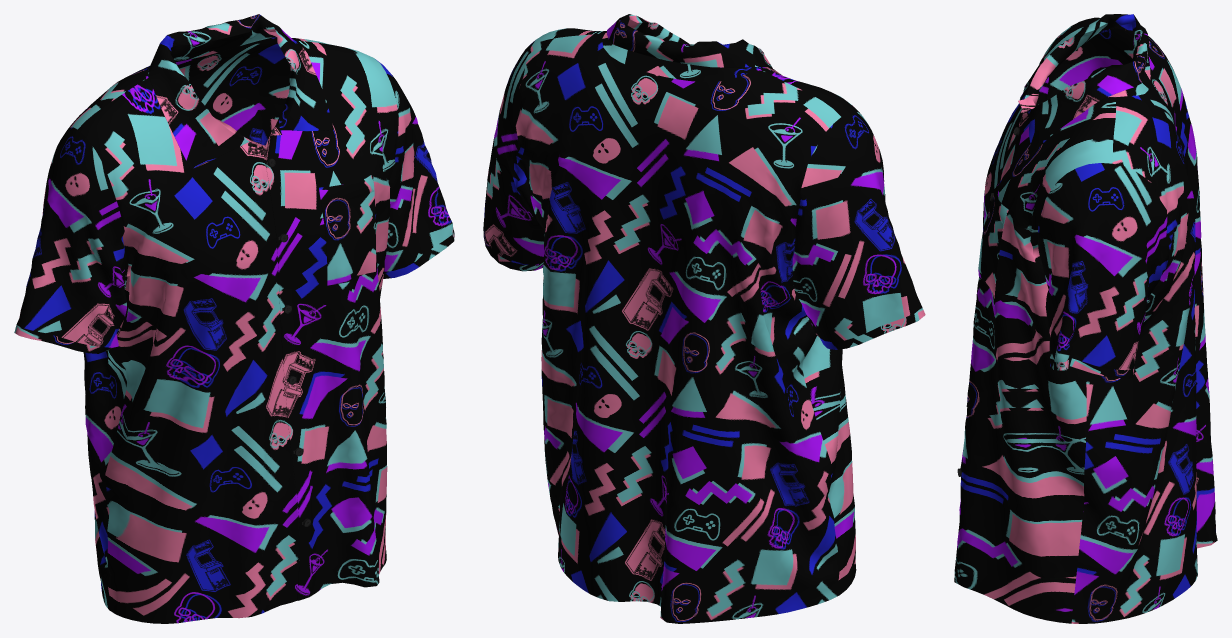
Rendered from arcade-night.glb.
3 renders of one model, left to right at view 1: azimuth 30°, elevation 25°; view 2: azimuth 150°, elevation 25°; view 3: azimuth 270°, elevation 25°, orthographic. The views are drawn at different scales.
Visible parts, largest first — view 1: Object_6, Object_13, Object_3, Object_5, Object_12, Object_4, Object_11, Object_8, Object_7; view 2: Object_3, Object_13, Object_6, Object_12, Object_5, Object_8; view 3: Object_3, Object_6, Object_12, Object_5, Object_13, Object_11, Object_7, Object_4.
Boxes of the visible parts, x1,y1,x2,y2 form: Object_6: (78, 40, 398, 623); Object_13: (16, 127, 128, 347); Object_3: (67, 37, 331, 609); Object_5: (144, 14, 333, 169); Object_12: (375, 59, 452, 271); Object_4: (245, 124, 311, 600); Object_11: (319, 175, 376, 285); Object_8: (14, 325, 111, 353); Object_7: (383, 227, 454, 278); Object_3: (515, 33, 840, 623); Object_13: (792, 111, 921, 342); Object_6: (532, 28, 861, 594); Object_12: (483, 40, 544, 264); Object_5: (602, 14, 782, 81); Object_8: (820, 307, 925, 349); Object_3: (1071, 30, 1217, 623); Object_6: (954, 17, 1116, 623); Object_12: (1037, 163, 1171, 370); Object_5: (1024, 14, 1150, 154); Object_13: (1037, 28, 1133, 104); Object_11: (978, 180, 1008, 298); Object_7: (1050, 358, 1134, 378); Object_4: (960, 96, 1035, 479).
Size of the model in its own units: 0.589 by 0.7019 by 0.3166.
Materials: 2 (1 with a texture image).
